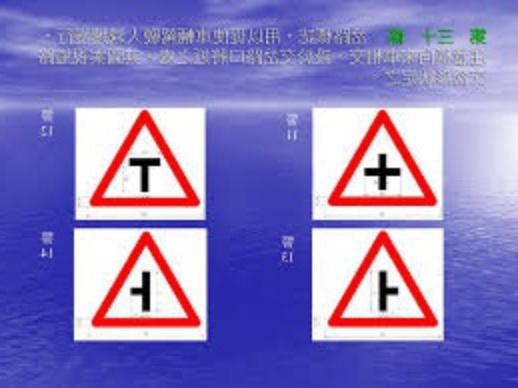fork_road: (317, 96, 453, 212), (82, 106, 209, 215), (323, 220, 437, 331), (86, 225, 201, 328)
